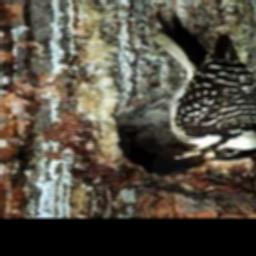Woodpecker: (146, 12, 256, 164)
